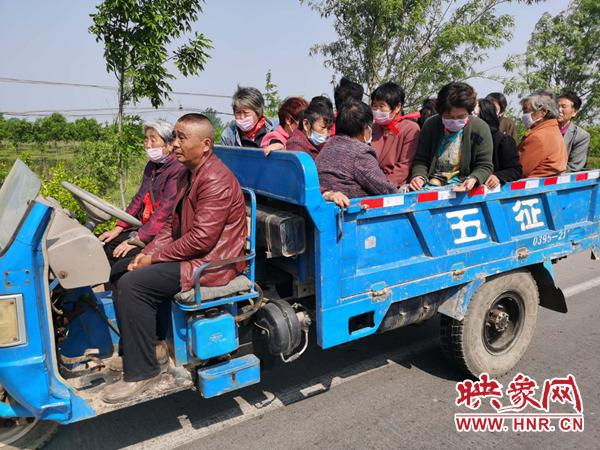driver: (130, 125, 249, 389)
overloading: (11, 73, 592, 421)
passenger: (117, 117, 177, 233), (423, 78, 485, 179), (315, 101, 374, 202), (372, 84, 425, 192), (516, 93, 570, 178), (474, 98, 512, 181), (554, 88, 589, 170), (233, 79, 272, 147), (276, 97, 308, 170), (303, 109, 329, 171)
